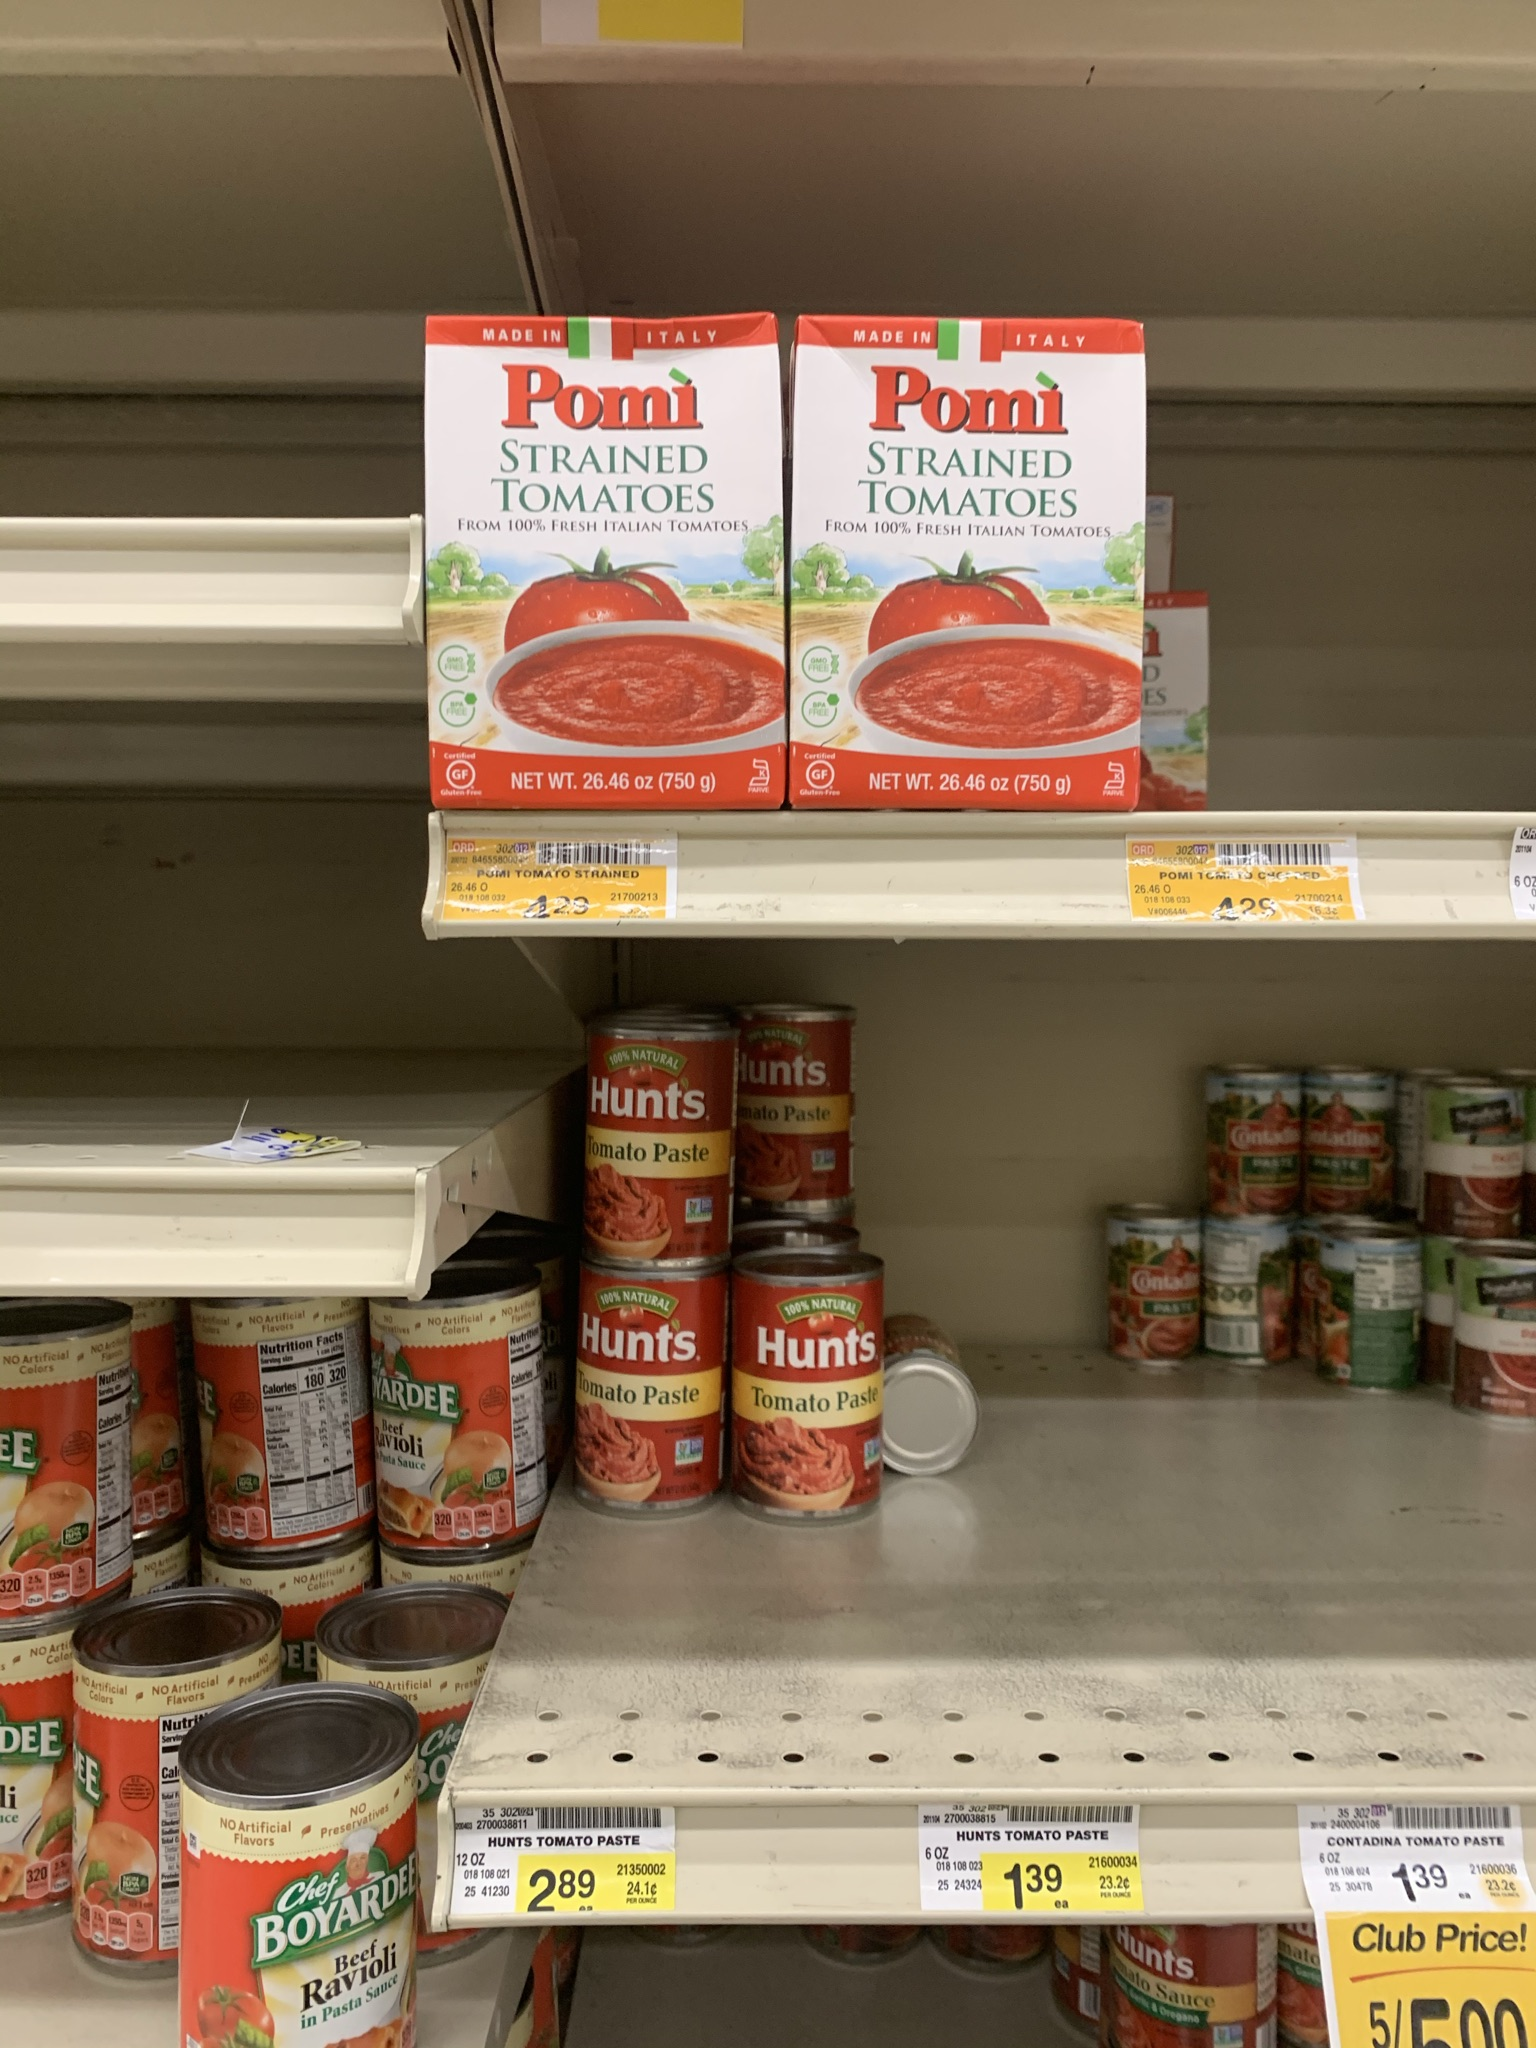box: (436, 326, 771, 800), (805, 323, 1137, 793)
can: (194, 1780, 402, 2048), (202, 1301, 345, 1543), (2, 1342, 136, 1596), (386, 1314, 523, 1555), (597, 1032, 726, 1264), (749, 1279, 874, 1500), (597, 1285, 707, 1508), (739, 1026, 842, 1214), (1321, 1250, 1421, 1384), (1104, 1214, 1197, 1355), (1431, 1084, 1517, 1232), (1312, 1080, 1399, 1214), (1213, 1072, 1297, 1209), (1463, 1261, 1536, 1413), (1218, 1232, 1288, 1364)
